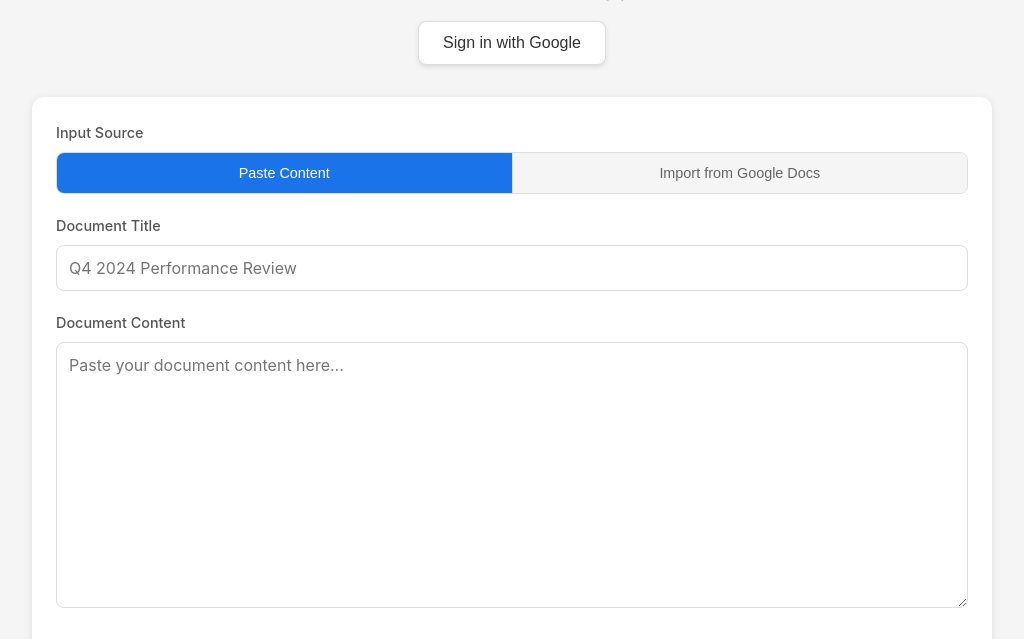
App › shows login prompt when slides are generated but user is not signed in
Type "Test Title" into the field labelled "Document Title" at (512, 268), box [56,245,968,291]
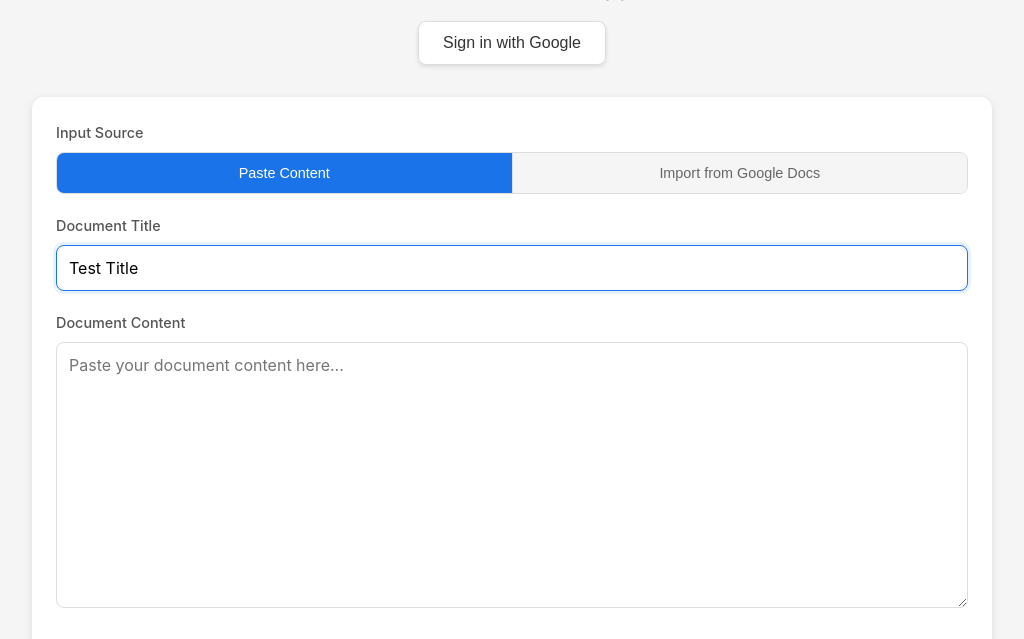
Type "Test content" into the text box labelled "Document Content" at (512, 475), box [56,342,968,608]
(page scrolled)
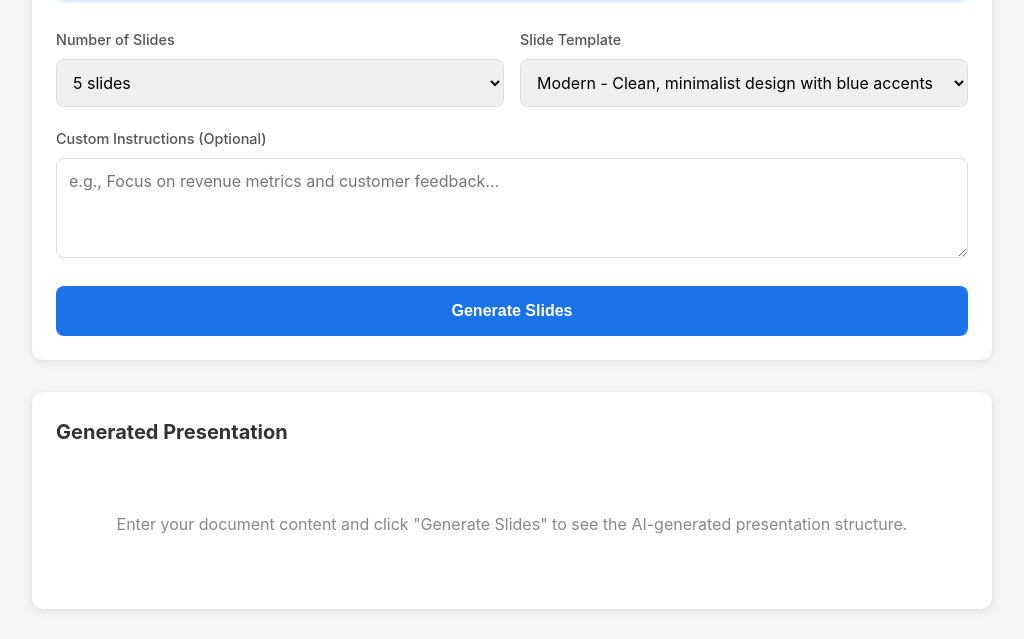
Click the button "Generate Slides" at (512, 311), box [56,286,968,336]
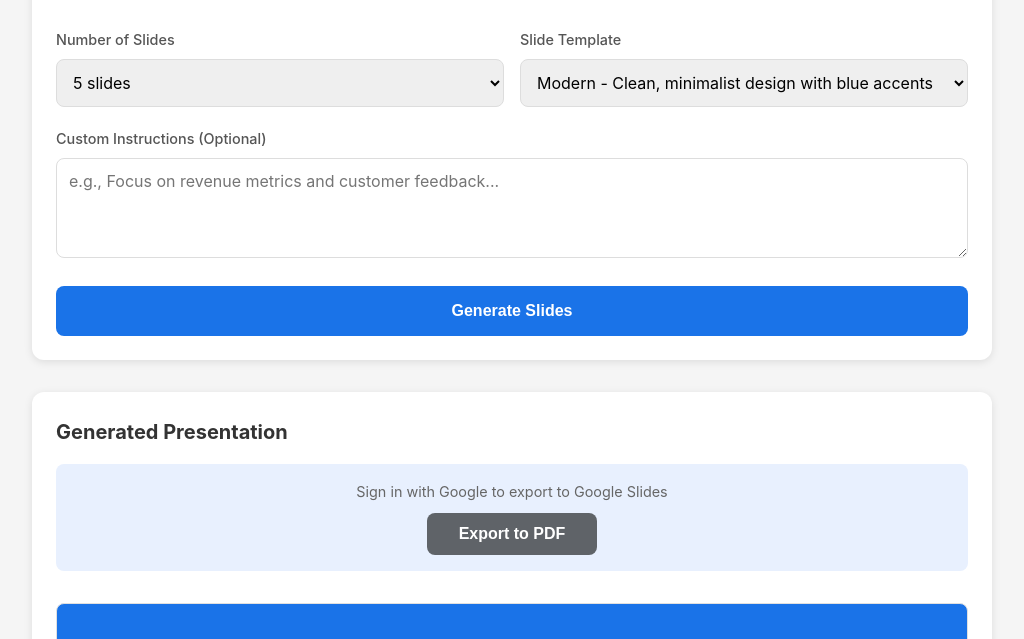
Expected: the text "Sign in with Google to export to Google Slides" is shown, [356,483,668,500]
